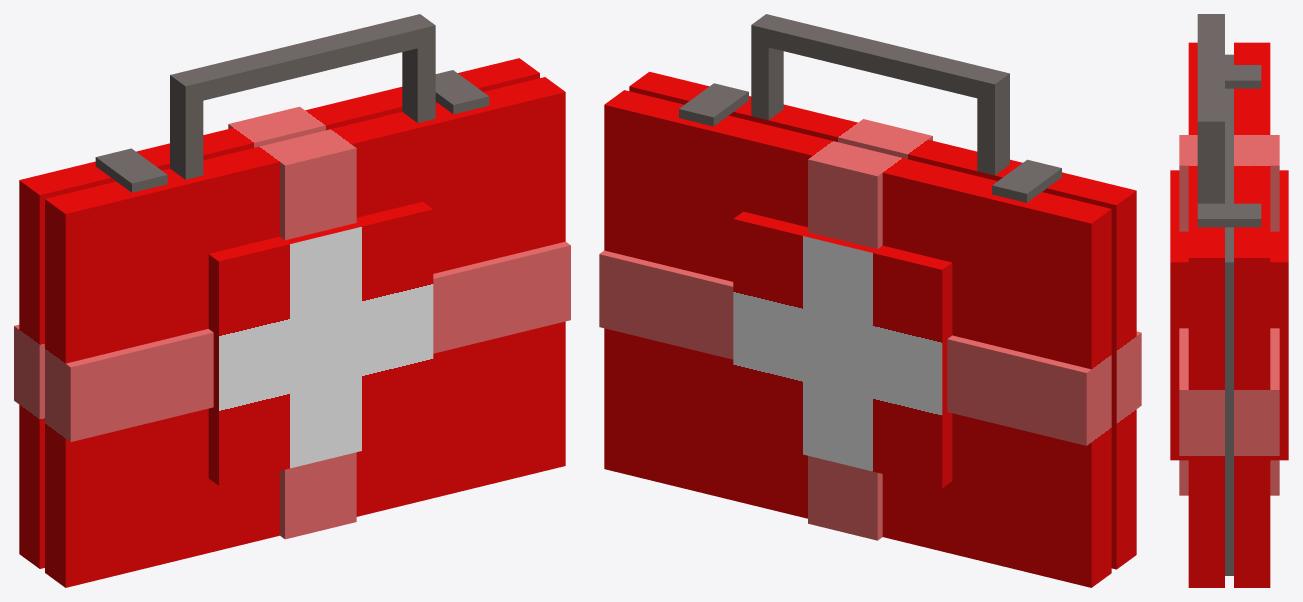
3 views of the same model, side by side, from view 1: azimuth 30°, elevation 25°; view 2: azimuth 150°, elevation 25°; view 3: azimuth 270°, elevation 25° (orthographic). The views are drawn at different scales.
Visible parts, largest first — view 1: scianka2, znaczek2, scianka1, linia pozioma3, linia pozioma4, uchwyt, linias pionowa1, linias pionowa2, podporka2, podporka1, klips2, klips1; view 2: scianka1, znaczek1, scianka2, linia pozioma1, linia pozioma2, uchwyt, linias pionowa3, linias pionowa4, podporka2, podporka1, klips1, klips2; view 3: scianka1, scianka2, scianka mniejsza, znaczek2, znaczek1, uchwyt, podporka1, klips1, linia pozioma4, linia pozioma2, linias pionowa1, linias pionowa3 (+3 smaller).
Part boxes in pixels (x1,y1,x2,y2): scianka2: [45, 77, 565, 587]; znaczek2: [208, 201, 433, 485]; scianka1: [19, 58, 539, 568]; linia pozioma3: [65, 329, 213, 441]; linia pozioma4: [433, 241, 570, 353]; uchwyt: [170, 14, 435, 104]; linias pionowa1: [280, 144, 356, 240]; linias pionowa2: [280, 452, 356, 539]; podporka2: [170, 94, 203, 179]; podporka1: [402, 44, 435, 122]; klips2: [95, 148, 167, 192]; klips1: [435, 70, 489, 114]; scianka1: [604, 90, 1111, 587]; znaczek1: [733, 211, 952, 488]; scianka2: [629, 71, 1136, 569]; linia pozioma1: [947, 335, 1091, 445]; linia pozioma2: [599, 250, 733, 359]; uchwyt: [751, 14, 1009, 102]; linias pionowa3: [808, 156, 882, 248]; linias pionowa4: [808, 456, 882, 540]; podporka2: [977, 92, 1009, 175]; podporka1: [751, 43, 783, 120]; klips1: [679, 83, 748, 126]; klips2: [992, 159, 1061, 202]; scianka1: [1234, 42, 1270, 587]; scianka2: [1188, 42, 1224, 587]; scianka mniejsza: [1225, 54, 1233, 575]; znaczek2: [1170, 170, 1188, 460]; znaczek1: [1270, 170, 1288, 460]; uchwyt: [1197, 14, 1224, 138]; podporka1: [1197, 138, 1224, 203]; klips1: [1197, 203, 1261, 227]; linia pozioma4: [1179, 328, 1188, 455]; linia pozioma2: [1270, 328, 1279, 455]; linias pionowa1: [1179, 135, 1188, 231]; linias pionowa3: [1270, 135, 1279, 231].
Size of the model in its own units: 0.875 by 0.7812 by 0.2031.
7 materials, 5 textured.
